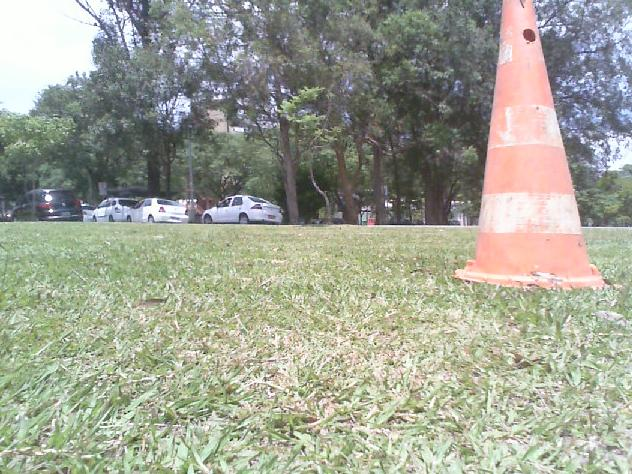0 cone: (454, 0, 604, 288)
